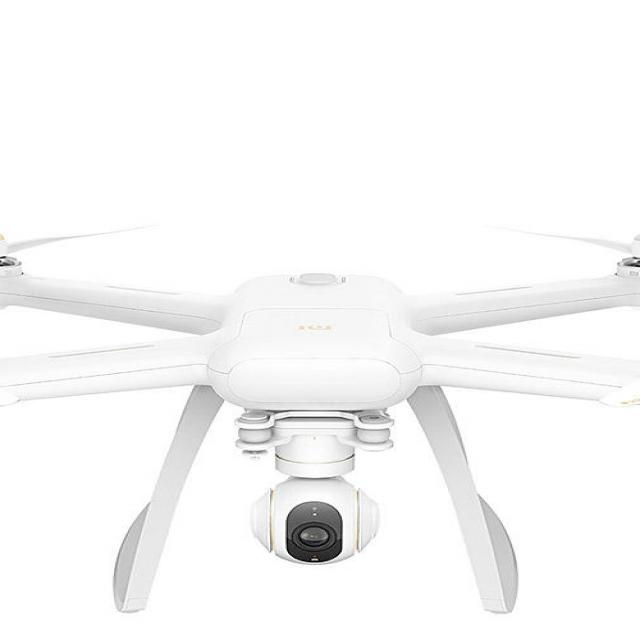drone: (0, 200, 640, 488)
